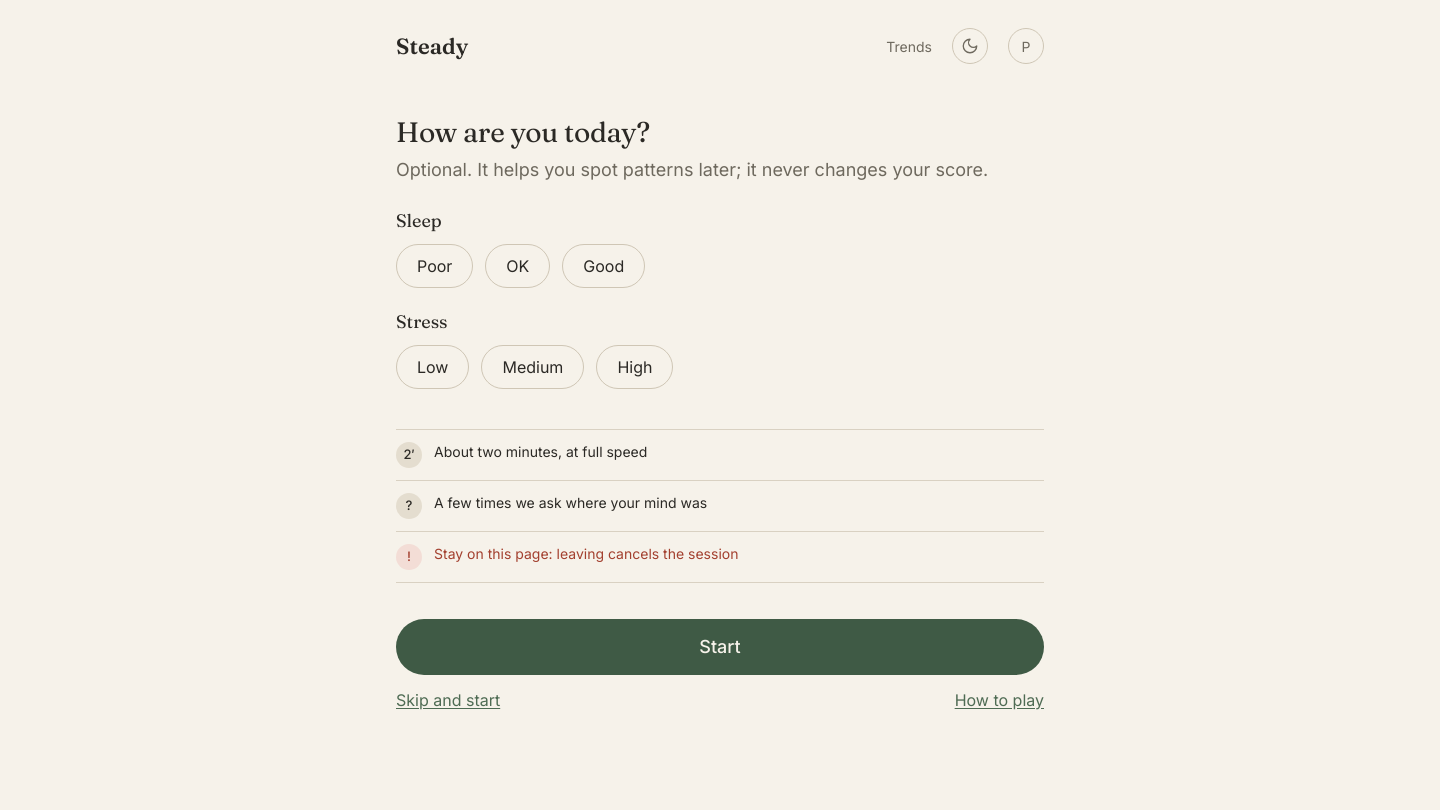
Test: The rule line in the block › is still in the session, and Tap on a touch device
Expected: the heading "How are you today?" is shown, [396, 115, 650, 149]
Click the button "Start": (720, 647) [396, 619, 1044, 675]
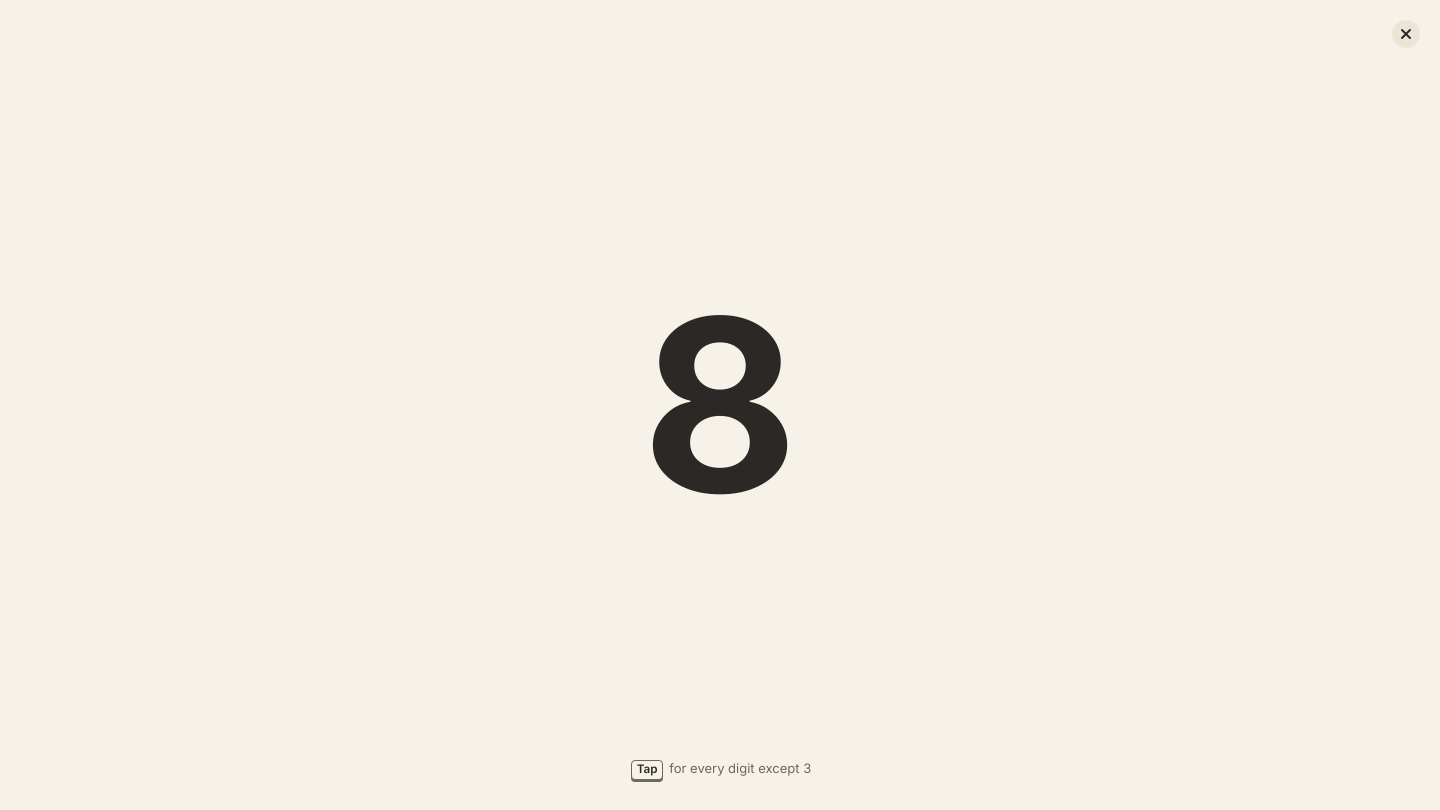
Expected: the element with test id "hint" reads "Tap for every digit except 3", [631, 760, 811, 780]
